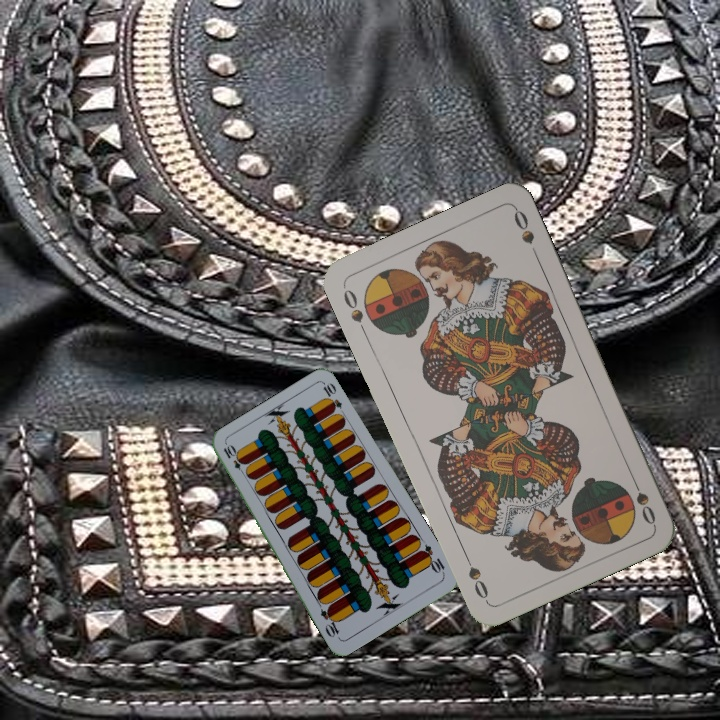E10: (416, 541, 447, 577), (219, 441, 249, 478)
SO: (626, 471, 658, 528), (339, 283, 370, 339)
